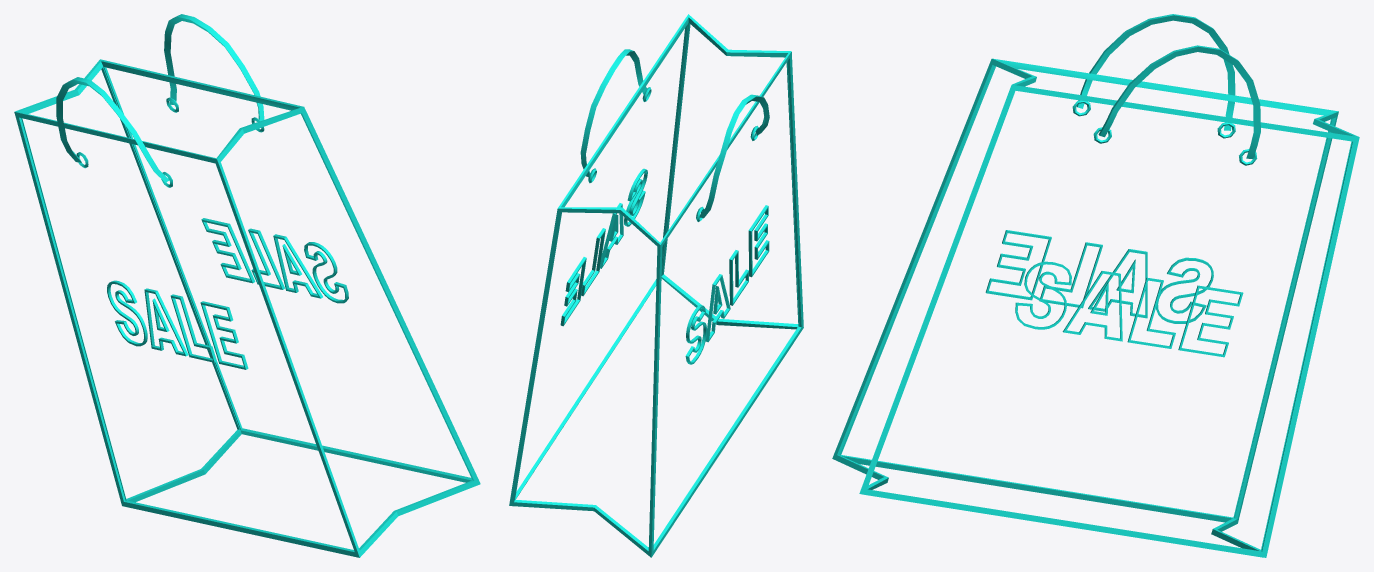
File: W_O_Neonsign_006.fbx
The picture shows the model from 3 angles, left to right: view 1: azimuth 30°, elevation 25°; view 2: azimuth 150°, elevation 25°; view 3: azimuth 270°, elevation 25°; orthographic projection. The views are drawn at different scales.
Parts seen in each view (by area): view 1: W_O_Neonsign_006; view 2: W_O_Neonsign_006; view 3: W_O_Neonsign_006.
Boxes of the visible parts, left/top/right/bottom form: W_O_Neonsign_006: left=14, top=14, right=480, bottom=557; W_O_Neonsign_006: left=509, top=14, right=803, bottom=557; W_O_Neonsign_006: left=832, top=14, right=1359, bottom=557.
Bounding box in the file's own units: 0.2876 × 0.5479 × 0.5201.
